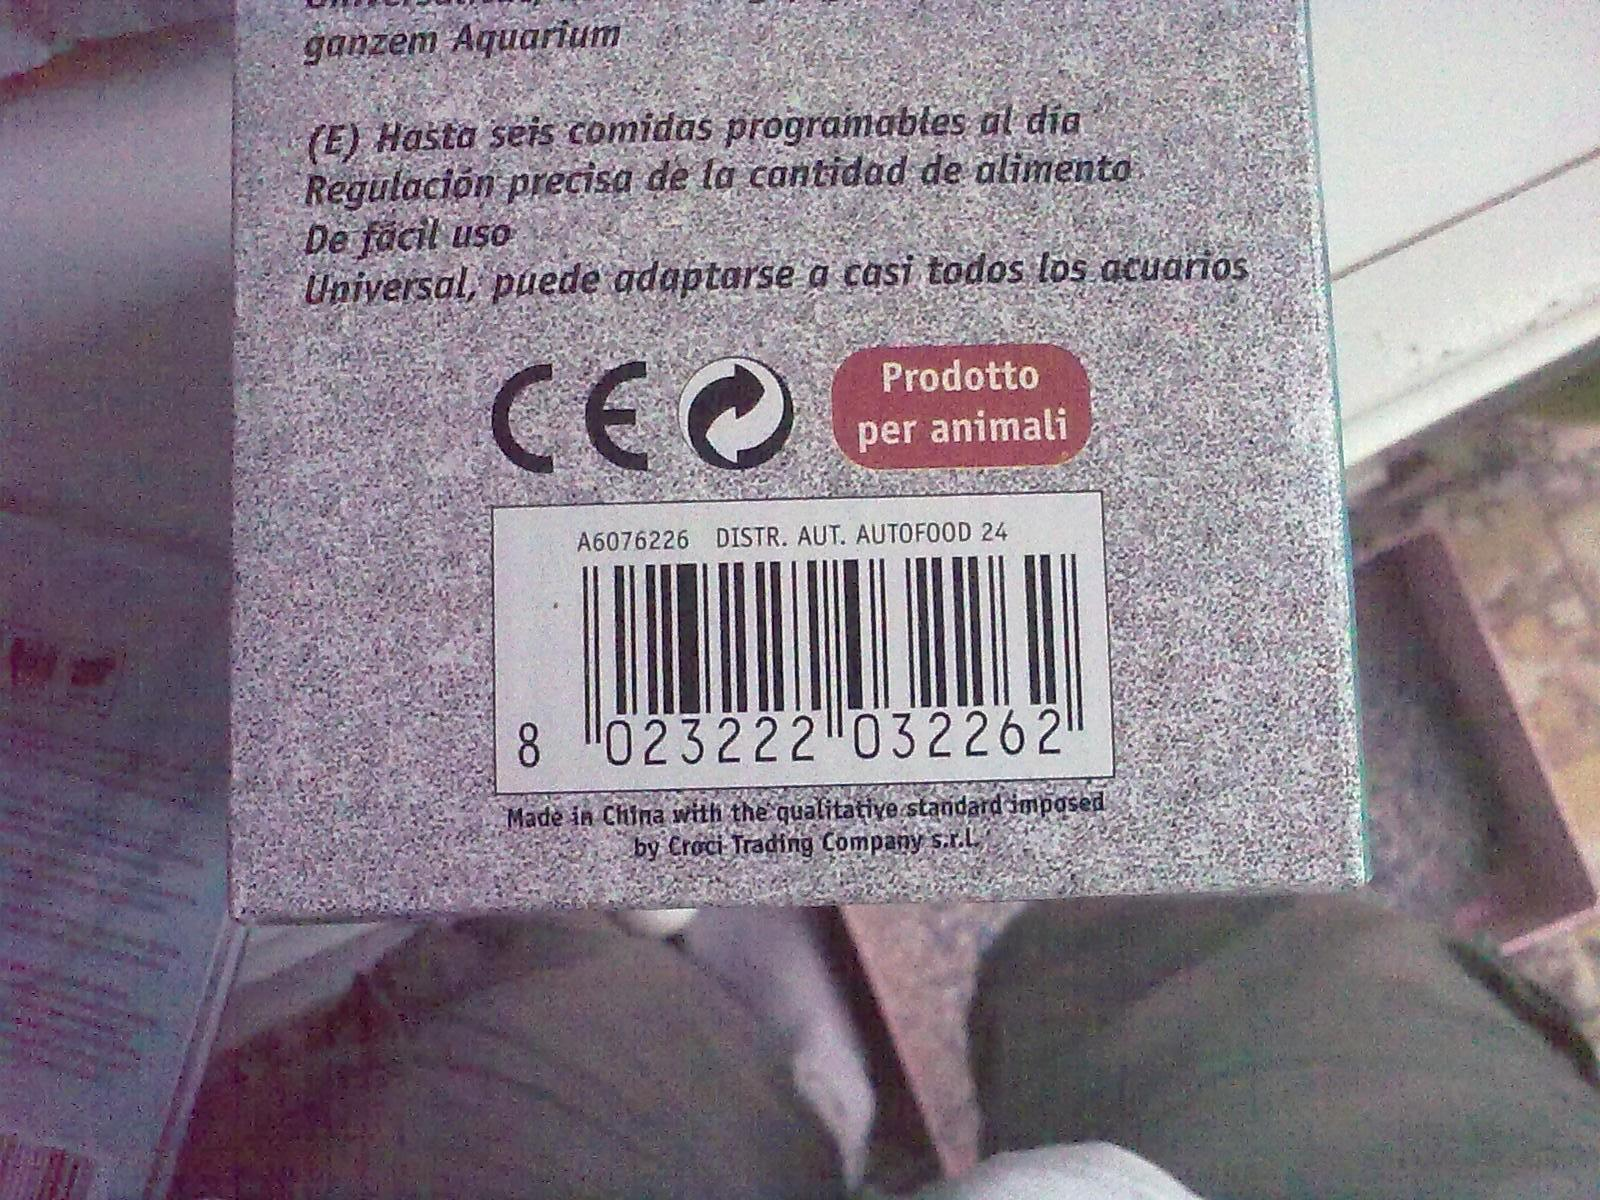Barcode: (488, 547, 1119, 794)
